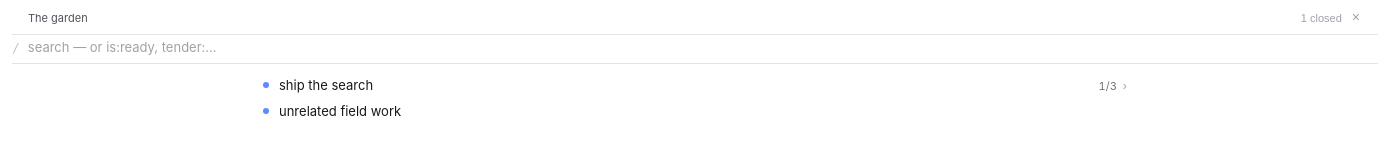
Scenario: GardenPanel search › the closed lens › counts what a search is hiding, and takes it back when asked
Type "field" into the dropdown at (699, 47), box [28,37,1370,57]
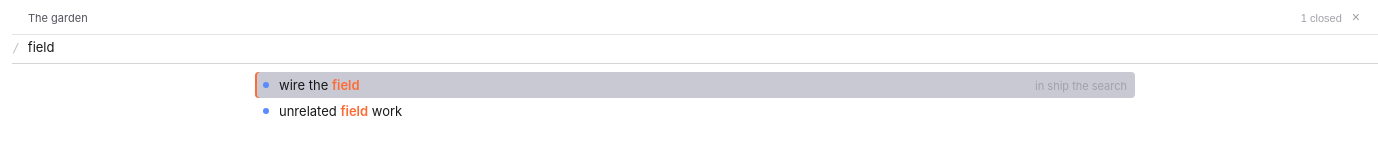
Click the button "1 closed" at (1321, 18), box [1301,12,1342,24]
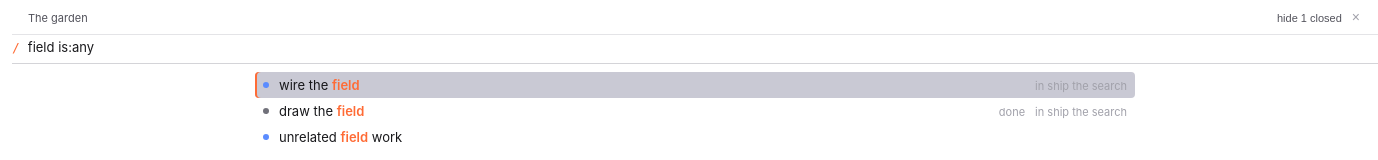
Result: the dropdown holds "field is:any" at [28,37,1370,57]
